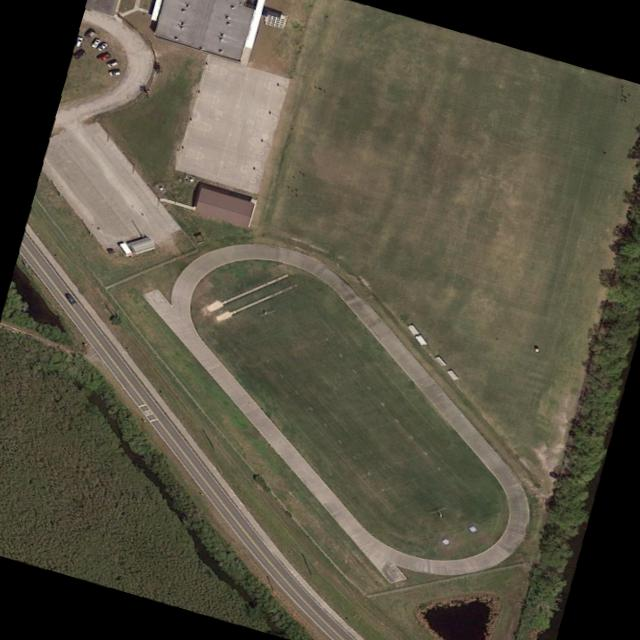small-vehicle: (94, 52, 112, 62), (63, 293, 77, 305), (73, 35, 84, 49), (72, 48, 86, 59), (88, 38, 100, 49), (83, 29, 96, 39), (104, 59, 118, 68), (94, 42, 107, 51), (107, 70, 121, 77)
